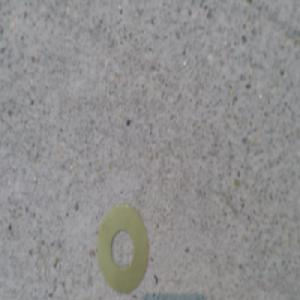Washer: (97, 203, 149, 293)
